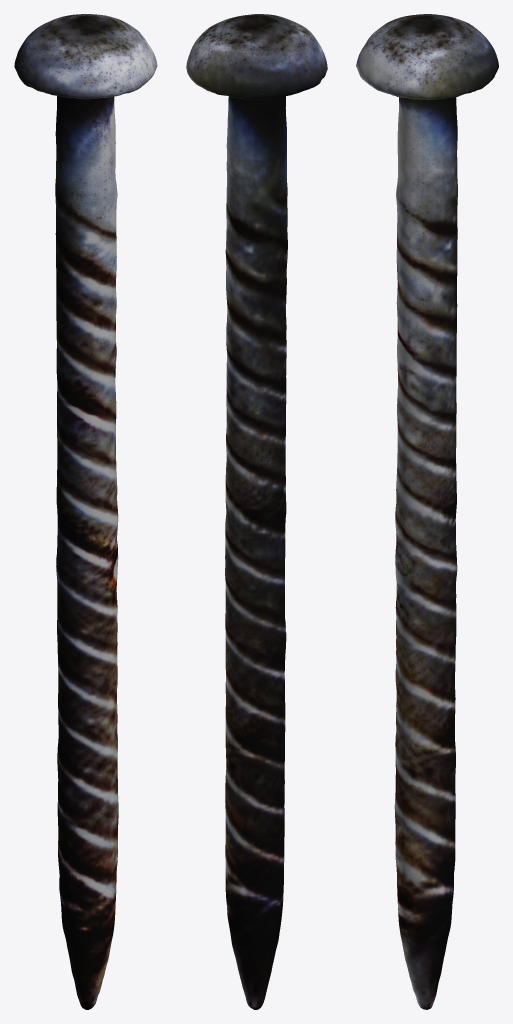
The model's file is a25dc3845315_Realistic_Iron_Nail.fbx.
The picture shows the model from 3 angles, left to right: view 1: azimuth 90°, elevation 25°; view 2: azimuth 210°, elevation 25°; view 3: azimuth 270°, elevation 25°; orthographic projection.
Parts seen in each view (by area): view 1: high_poly; view 2: high_poly; view 3: high_poly.
Boxes of the visible parts, left/top/right/bottom form: high_poly: left=14, top=14, right=157, bottom=1009; high_poly: left=186, top=14, right=327, bottom=1009; high_poly: left=356, top=14, right=498, bottom=1009.
Size of the model in its own units: 13.09 by 100 by 13.15.
